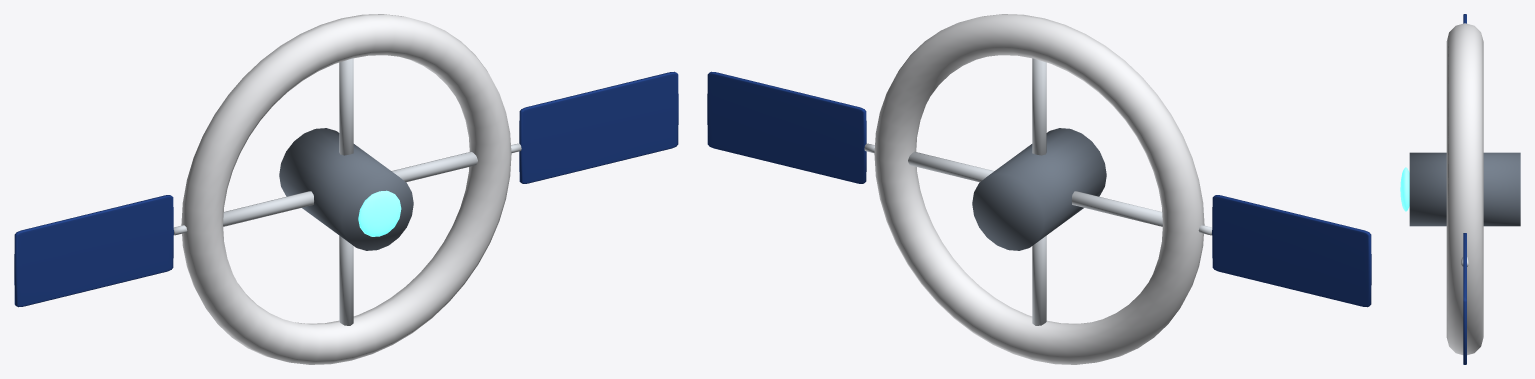
File: space_station.glb
The picture shows the model from 3 angles, left to right: view 1: azimuth 30°, elevation 25°; view 2: azimuth 150°, elevation 25°; view 3: azimuth 270°, elevation 25°; orthographic projection. The views are drawn at different scales.
Parts seen in each view (by area): view 1: Body; view 2: Body; view 3: Body.
Part boxes in pixels (x1,y1,x2,y2): Body: (14,14,678,364); Body: (707,14,1371,364); Body: (1400,14,1520,364).
Bounding box in the file's own units: 18.4 × 9 × 3.25.
